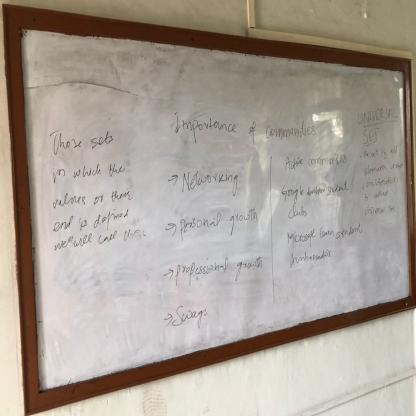Handwritten text: (169, 106, 321, 146), (174, 251, 266, 289), (179, 206, 262, 243), (180, 167, 249, 202), (42, 185, 137, 210), (46, 210, 133, 234), (281, 176, 354, 204), (47, 125, 120, 152), (283, 223, 372, 245), (53, 158, 129, 182), (283, 151, 350, 175), (353, 100, 403, 127), (173, 300, 210, 334), (289, 247, 334, 268), (359, 172, 404, 190), (363, 159, 407, 176), (360, 143, 401, 161), (363, 200, 398, 220), (360, 185, 393, 204), (360, 124, 384, 144), (286, 206, 311, 223)
Whiteboard: (17, 11, 415, 399)
